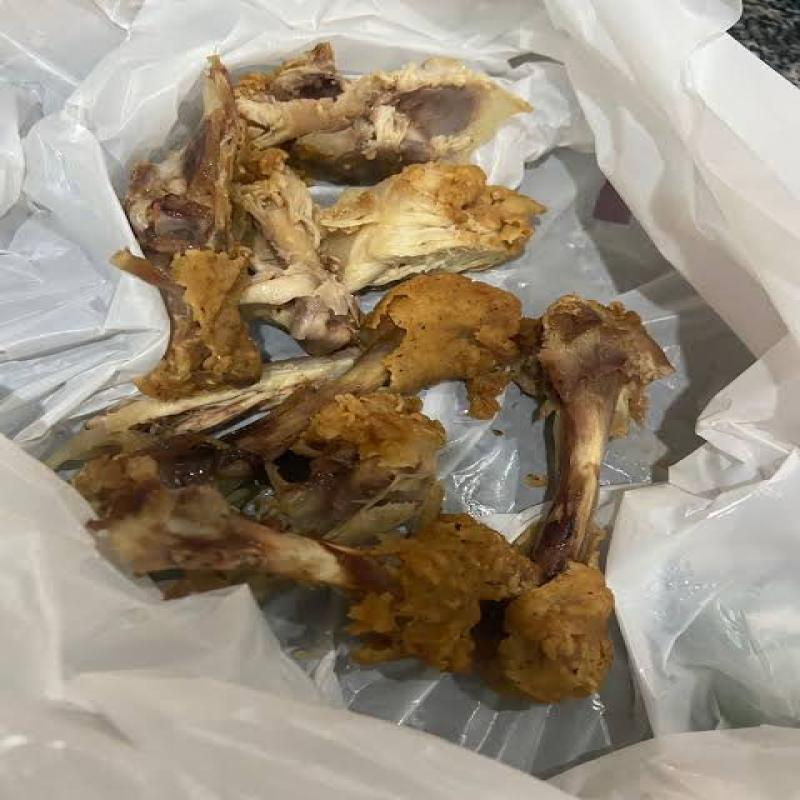left-over food: (55, 274, 525, 548), (97, 482, 543, 699), (498, 295, 675, 705), (227, 149, 548, 356), (110, 60, 263, 404), (224, 44, 532, 206)
